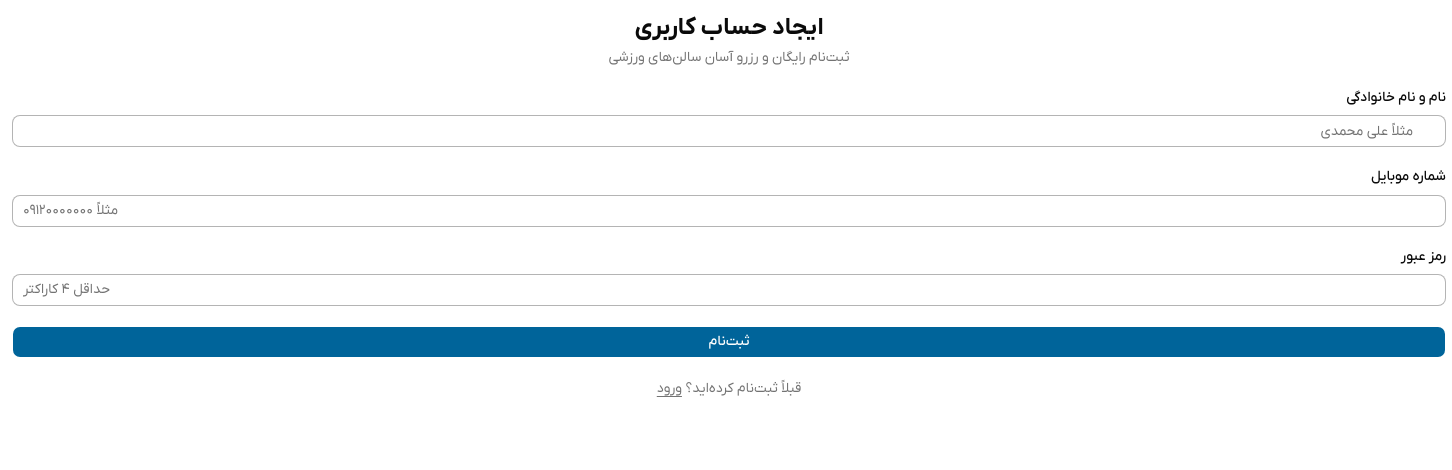
Test case: RegisterForm › shows validation errors for empty fields on submit
The width and height of the screenshot is (1452, 470).
Click the button "ثبت‌نام": (729, 342) [12,326,1446,358]
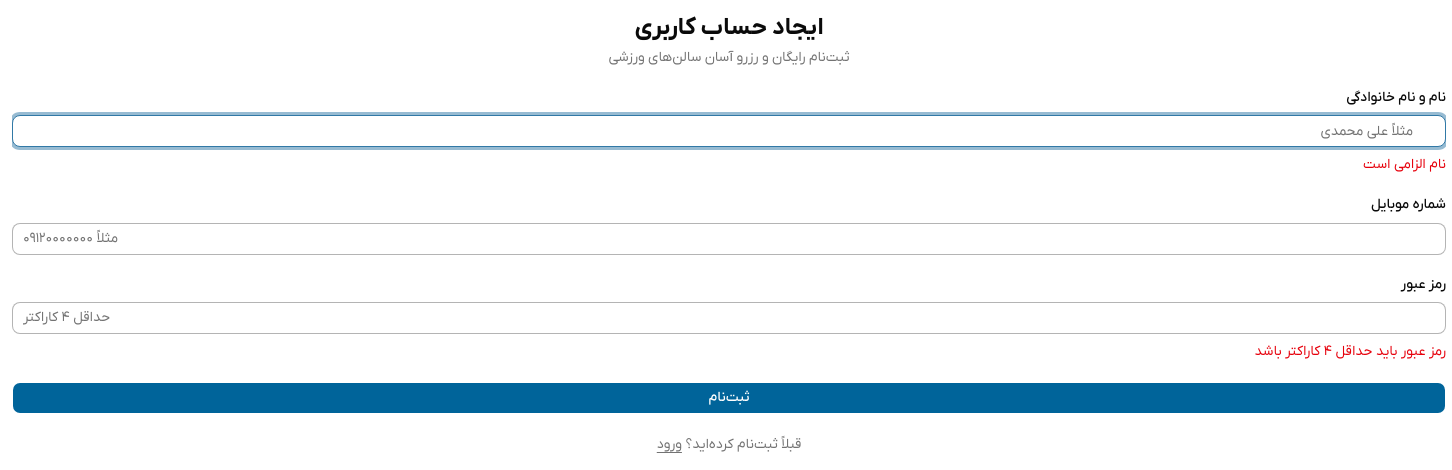
Result: the text "نام الزامی است" is shown at [1363,155,1446,174]
Result: the text "رمز عبور باید حداقل ۴ کاراکتر باشد" is shown at [1255,342,1446,361]
